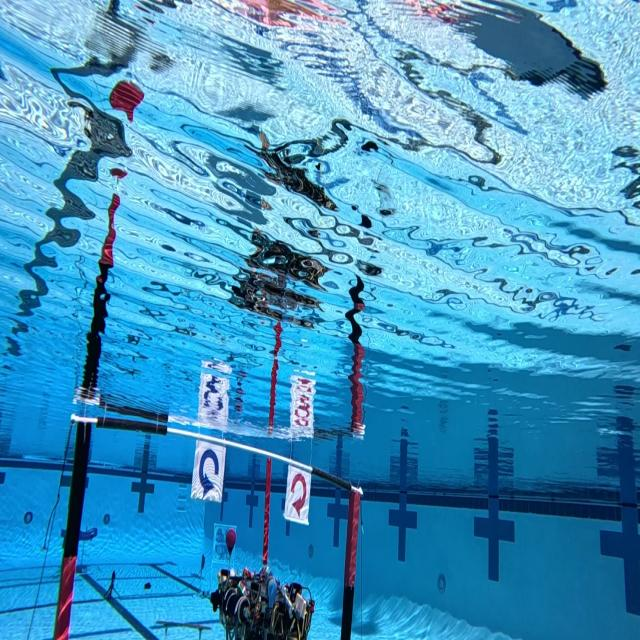blue_side: (190, 439, 227, 504)
red_side: (284, 464, 313, 527)
